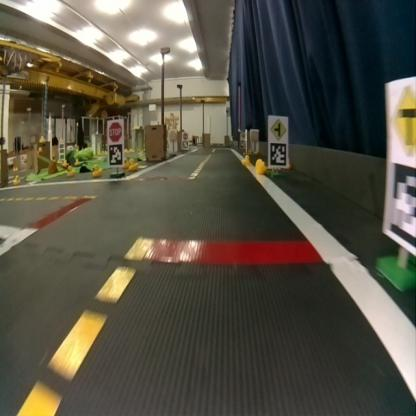Duckie: (255, 159, 265, 173), (92, 164, 100, 175), (242, 154, 249, 165), (128, 160, 135, 168), (67, 165, 72, 176), (13, 175, 19, 183)
Intersection sign: (389, 87, 415, 156), (270, 118, 286, 139)
QR code: (387, 173, 415, 246), (270, 142, 285, 165), (108, 144, 121, 164), (182, 140, 187, 148)
Stop sign: (108, 122, 122, 140), (182, 132, 188, 140)
